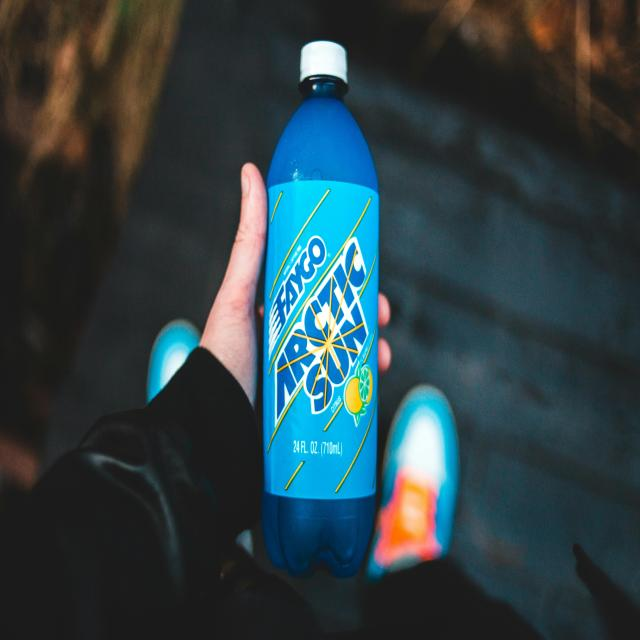bottle: (260, 38, 378, 576)
